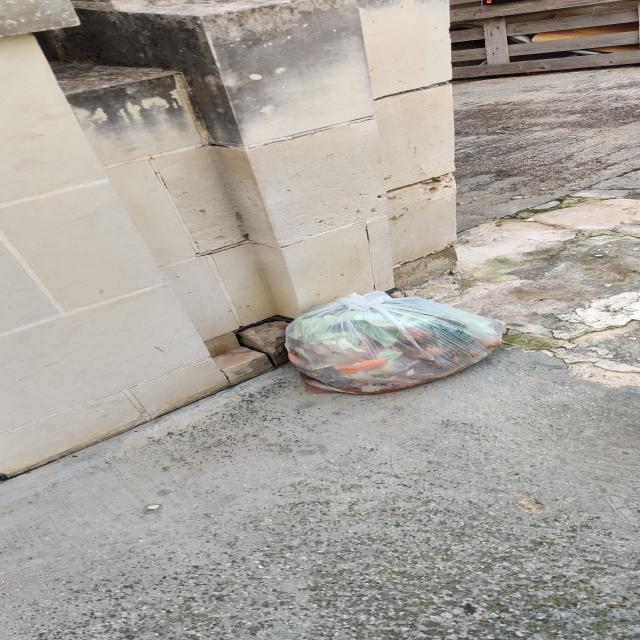Organic Waste -White Bags-: (282, 290, 512, 397)
